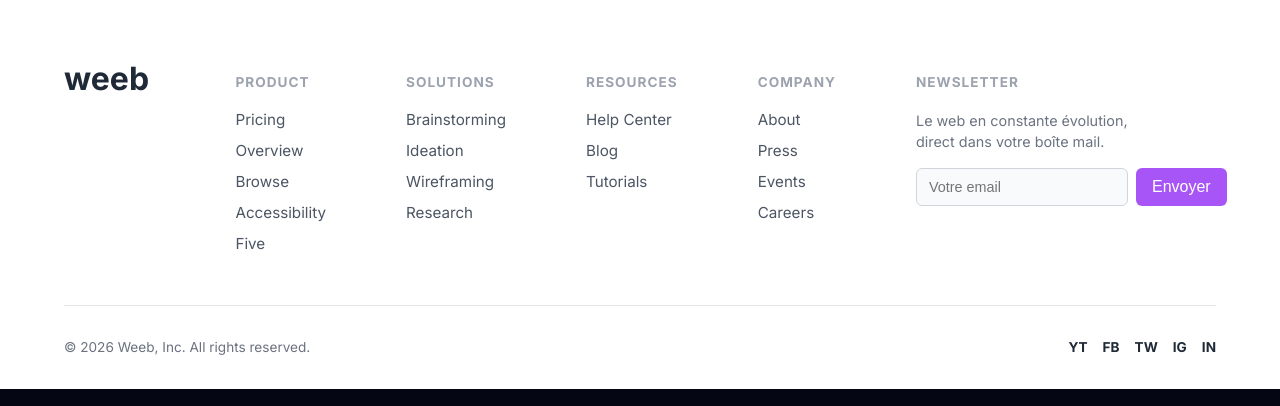
Test: <Footer> › confirme l’inscription à la newsletter sans recharger la page
The width and height of the screenshot is (1280, 406).
Type "ada@weeb.fr" into the field labelled "Votre email".
click(1022, 187); type("ada@weeb.fr")  # box [916, 168, 1128, 206]
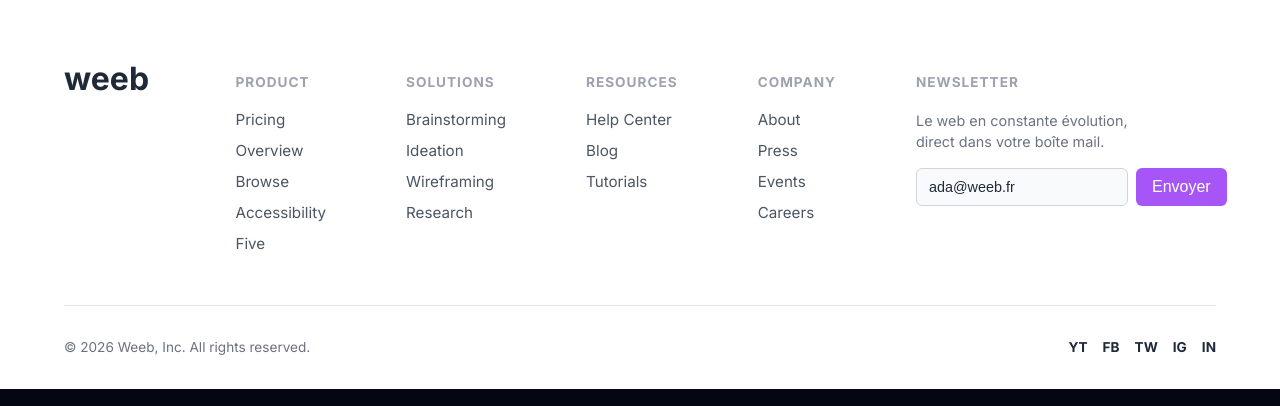
Submit the form from the button "Envoyer", box [1136, 168, 1227, 206]
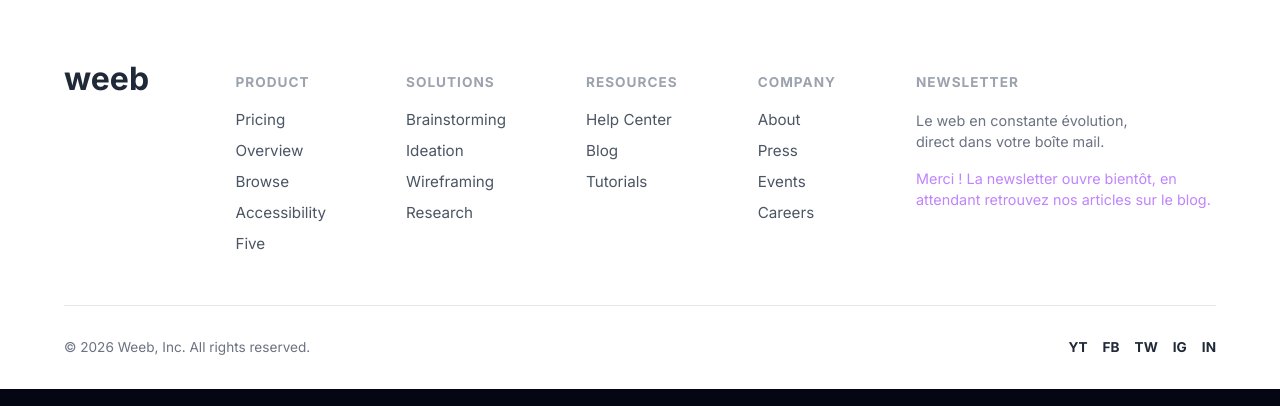
Check: the message shows "Merci", box [916, 170, 1211, 208]
